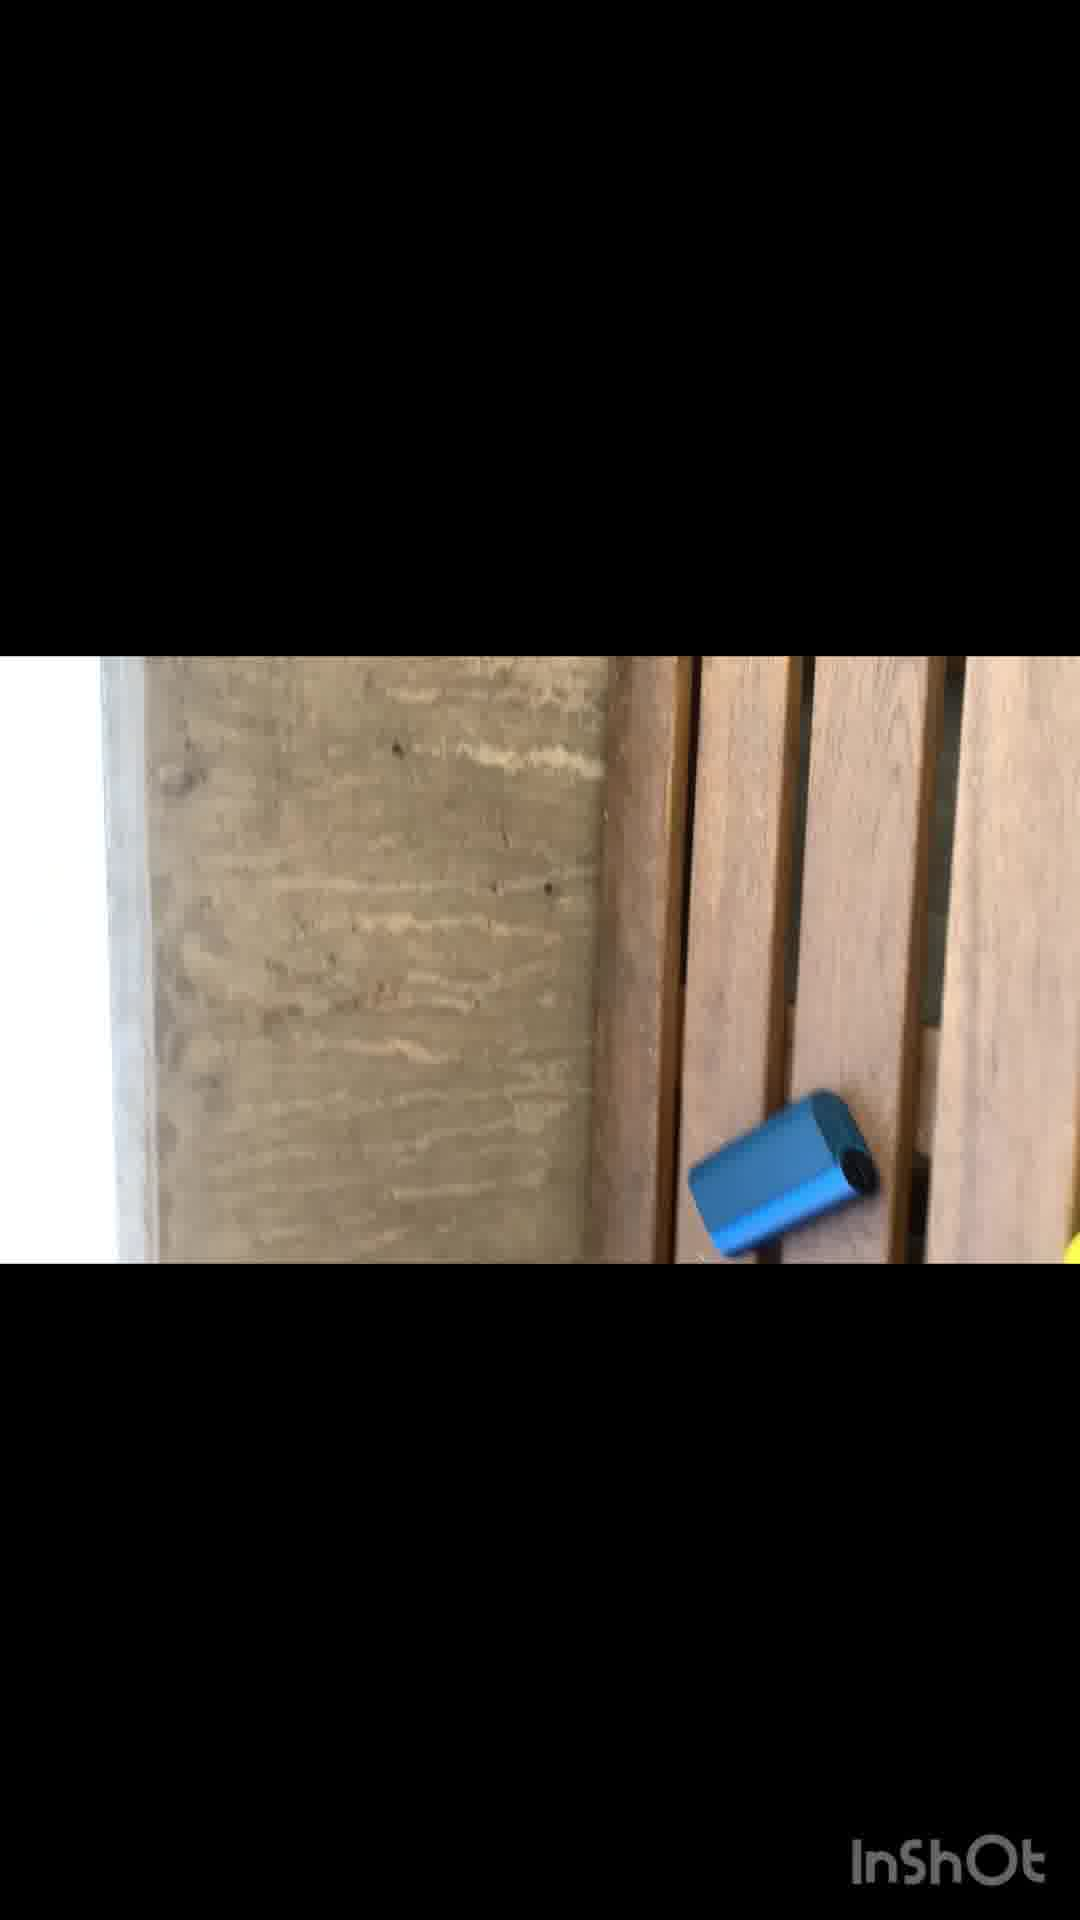glo: (682, 1080, 872, 1257)
